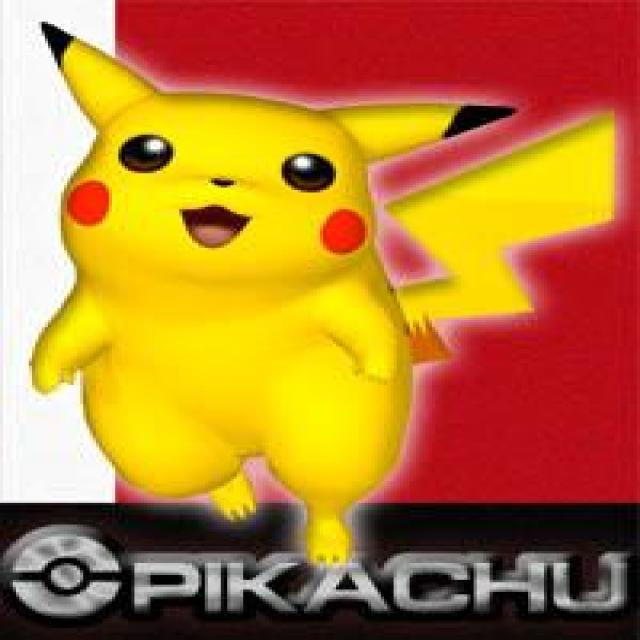pikachu: (29, 21, 618, 564)
